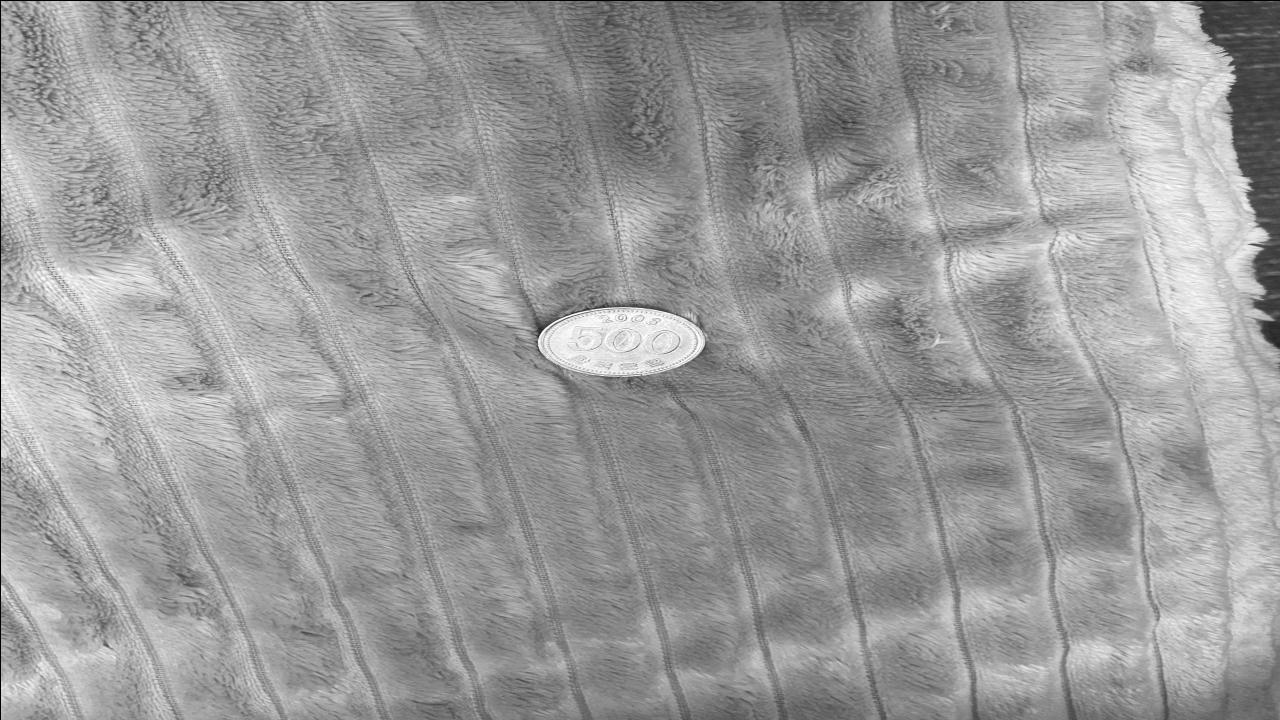coin: (528, 304, 706, 378)
